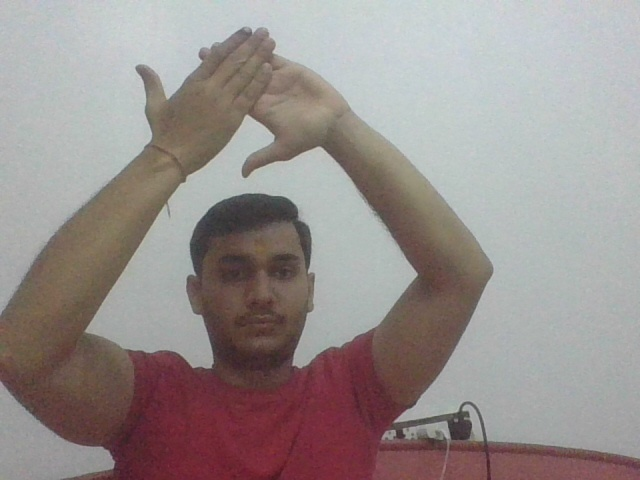H: (120, 25, 341, 174)
